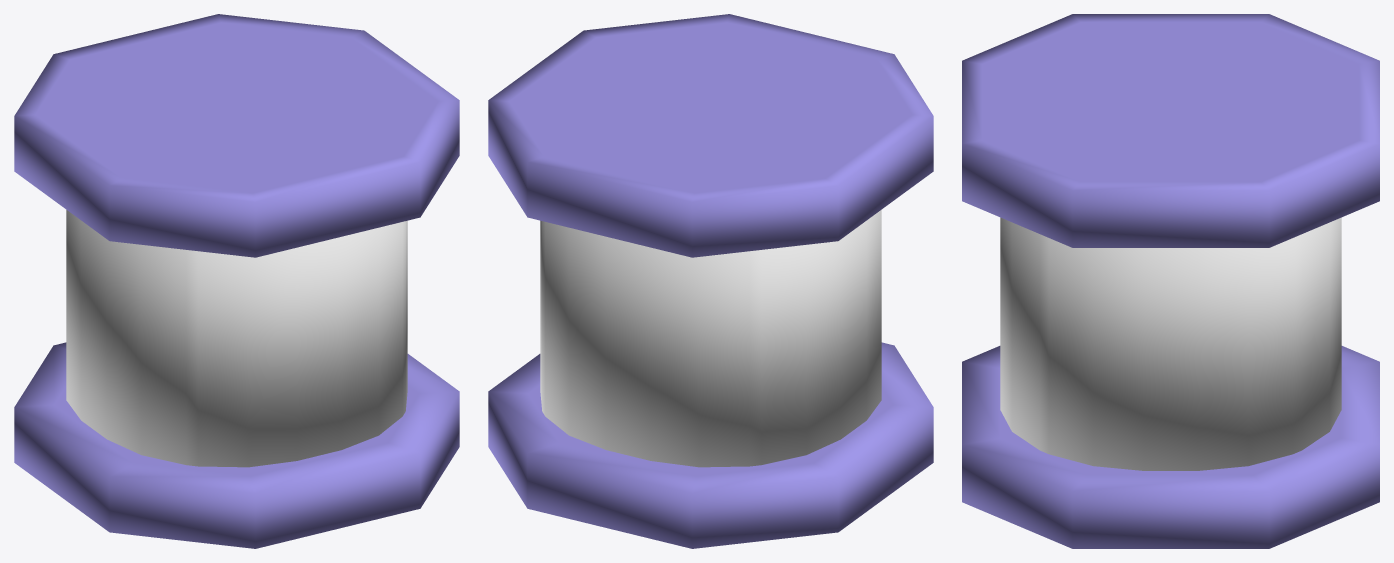
Rendered from Trigger.fbx.
3 views of the same model, side by side, from view 1: azimuth 30°, elevation 25°; view 2: azimuth 150°, elevation 25°; view 3: azimuth 270°, elevation 25° (orthographic). The views are drawn at different scales.
Visible parts, largest first — view 1: Cube.073; view 2: Cube.073; view 3: Cube.073.
Part boxes in pixels (x1,y1,x2,y2): Cube.073: (14, 14, 459, 548); Cube.073: (488, 14, 933, 548); Cube.073: (962, 14, 1379, 548).
Bounding box in the file's own units: 200 × 189 × 200.
